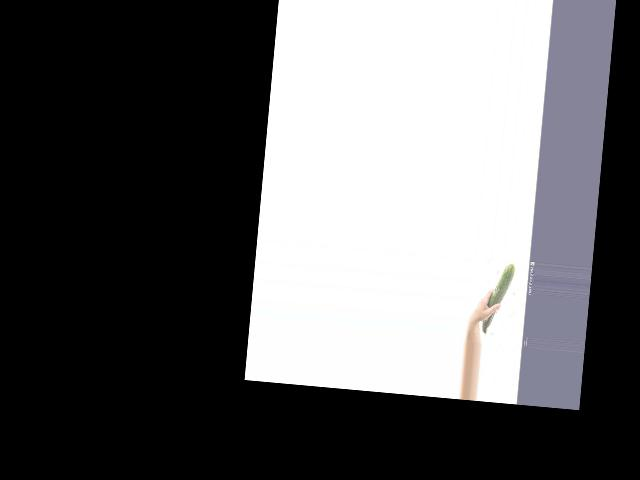cucumber: (480, 261, 515, 337)
